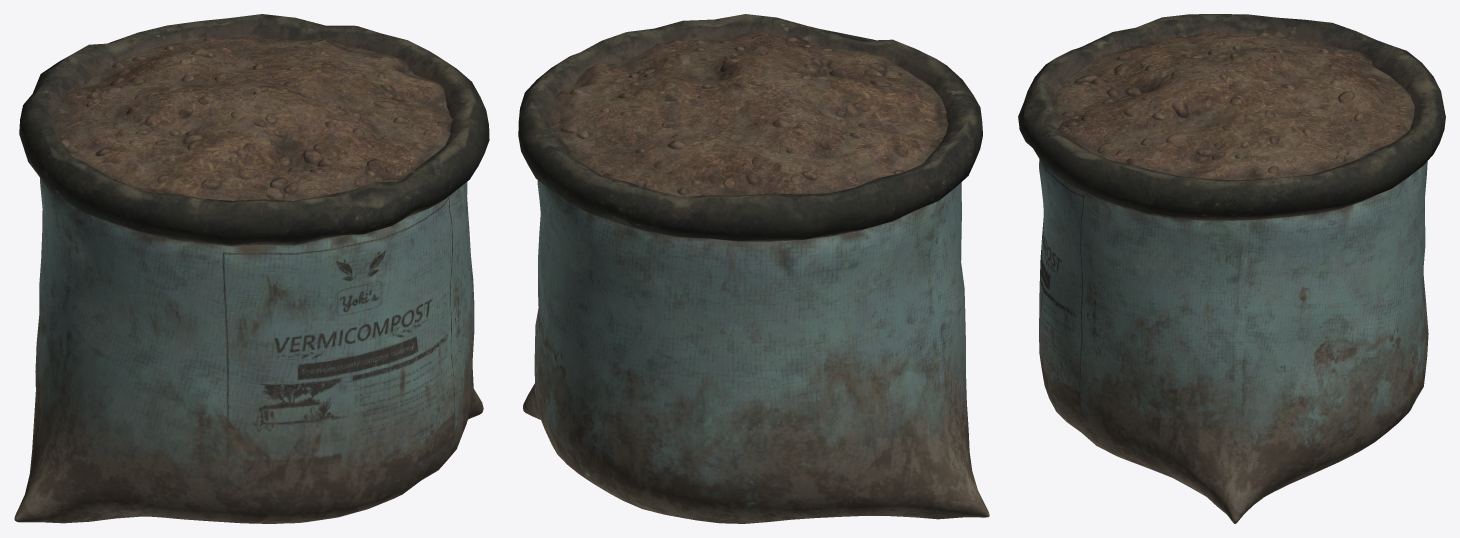
Rendered from compost_bag_02.gltf.
3 views of the same model, side by side, from view 1: azimuth 30°, elevation 25°; view 2: azimuth 150°, elevation 25°; view 3: azimuth 270°, elevation 25° (orthographic). The views are drawn at different scales.
Visible parts, largest first — view 1: compost_bag_02; view 2: compost_bag_02; view 3: compost_bag_02.
Boxes of the visible parts, x1,y1,x2,y2 form: compost_bag_02: [14, 14, 489, 523]; compost_bag_02: [518, 14, 989, 523]; compost_bag_02: [1018, 14, 1445, 523].
Bounding box in the file's own units: 0.5393 × 0.4337 × 0.4705.
Materials: 1 (1 with a texture image).
